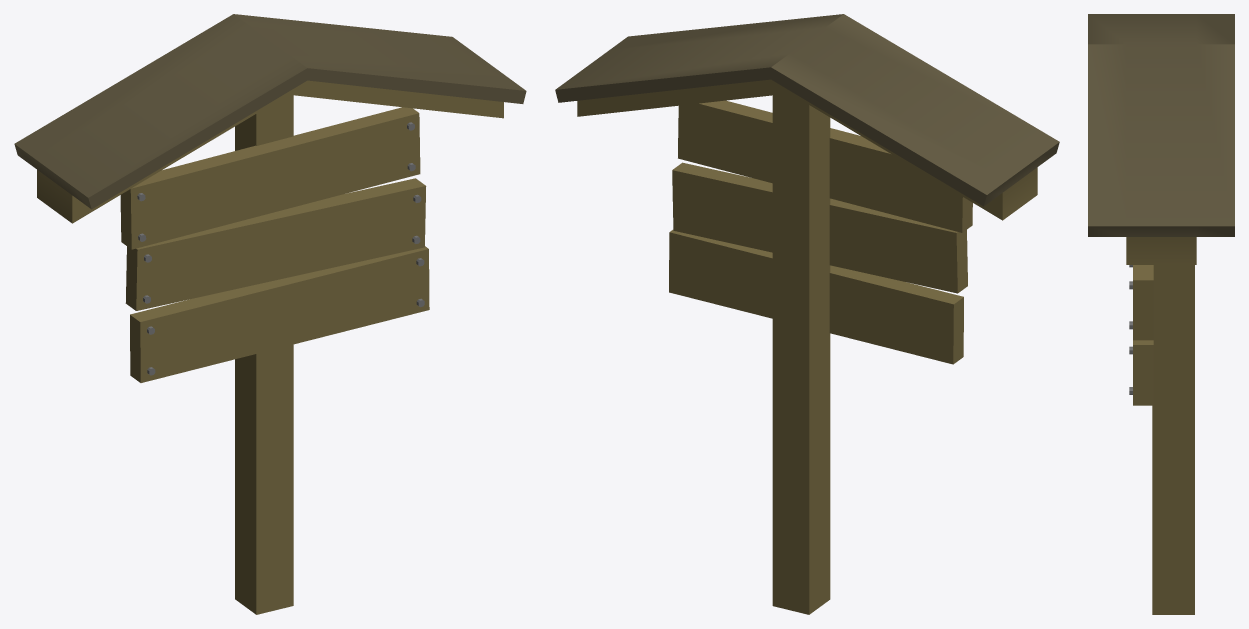
The model's file is sign.fbx.
3 views of the same model, side by side, from view 1: azimuth 30°, elevation 25°; view 2: azimuth 150°, elevation 25°; view 3: azimuth 270°, elevation 25° (orthographic).
Visible parts, largest first — view 1: pCube2, pCube4, pCube5, pCube3, pCube1; view 2: pCube2, pCube1, pCube5, pCube3, pCube4; view 3: pCube2, pCube1, pCube3, pCube5.
Boxes of the visible parts, x1,y1,x2,y2 form: pCube2: [14, 14, 526, 223]; pCube4: [120, 107, 420, 249]; pCube5: [130, 246, 429, 382]; pCube3: [125, 178, 426, 310]; pCube1: [235, 94, 293, 614]; pCube2: [555, 14, 1059, 220]; pCube1: [772, 93, 830, 614]; pCube5: [669, 230, 963, 364]; pCube3: [672, 162, 967, 293]; pCube4: [678, 100, 972, 232]; pCube2: [1088, 14, 1234, 264]; pCube1: [1152, 265, 1194, 614]; pCube3: [1129, 265, 1153, 340]; pCube5: [1129, 265, 1153, 405].
Size of the model in its own units: 11.78 by 14.54 by 3.44.
